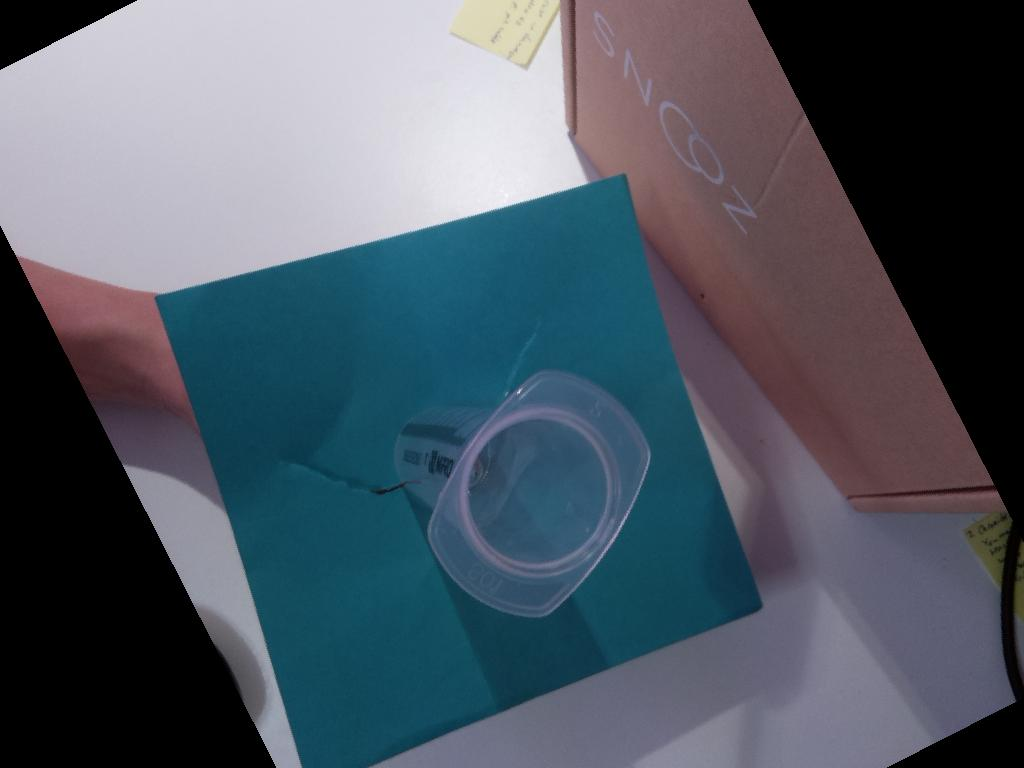clean: (427, 369, 651, 618)
